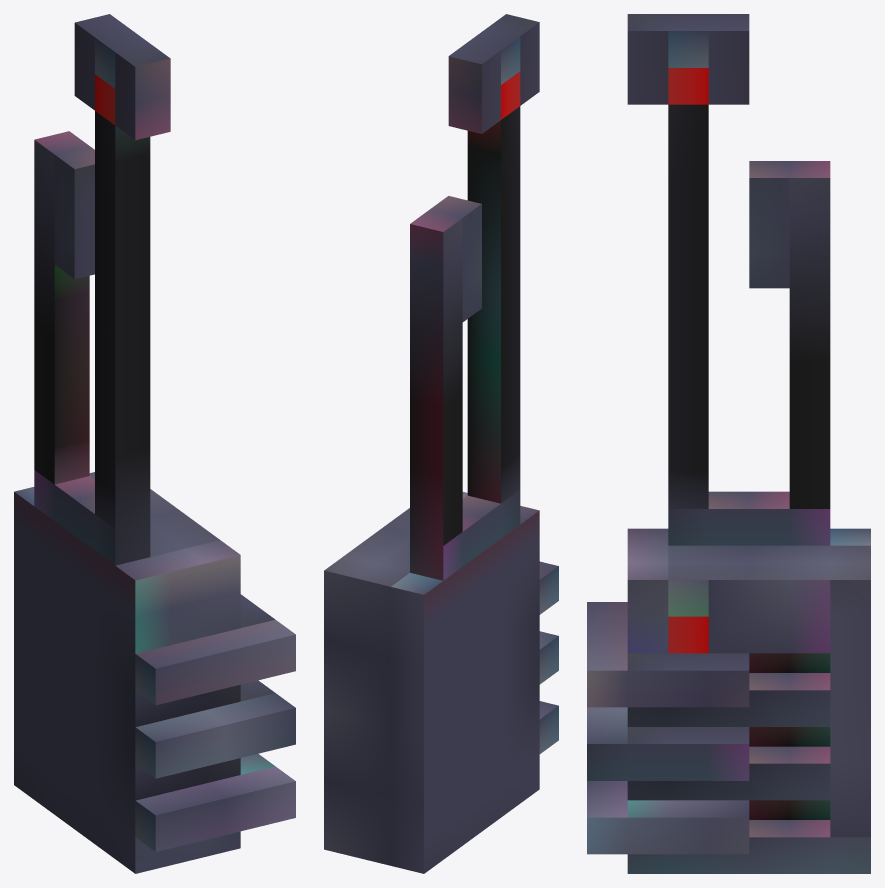
Rendered from Device_B_00.fbx.
3 renders of one model, left to right at view 1: azimuth 30°, elevation 25°; view 2: azimuth 150°, elevation 25°; view 3: azimuth 270°, elevation 25°, orthographic. The views are drawn at different scales.
Visible parts, largest first — view 1: Device_B_00; view 2: Device_B_00; view 3: Device_B_00.
Boxes of the visible parts, <box> form: Device_B_00: <box>14,14,295,873</box>; Device_B_00: <box>324,14,558,873</box>; Device_B_00: <box>587,14,870,873</box>.
Size of the model in its own units: 20 by 110 by 35.
